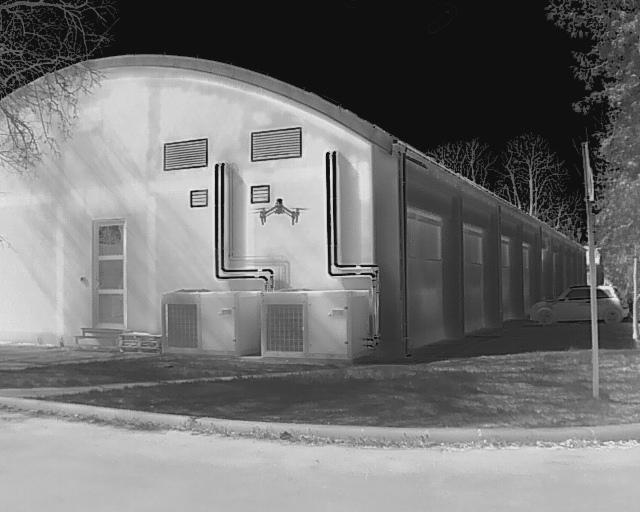drone: (245, 188, 313, 235)
